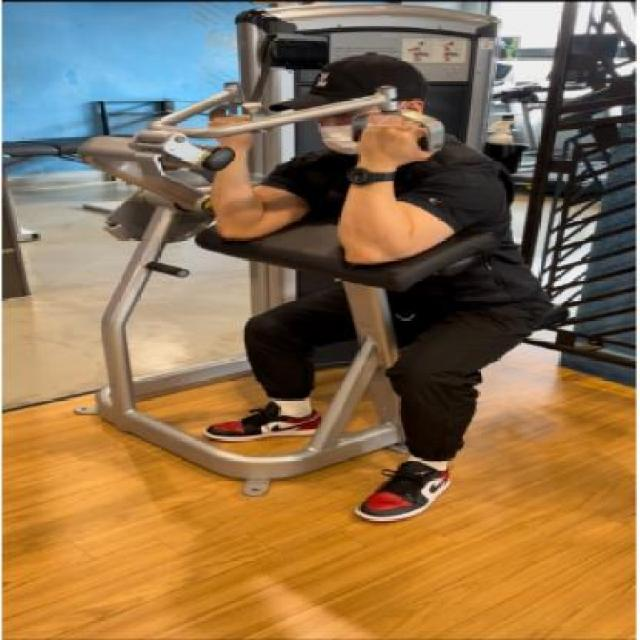arm curl machine: (84, 80, 490, 494)
